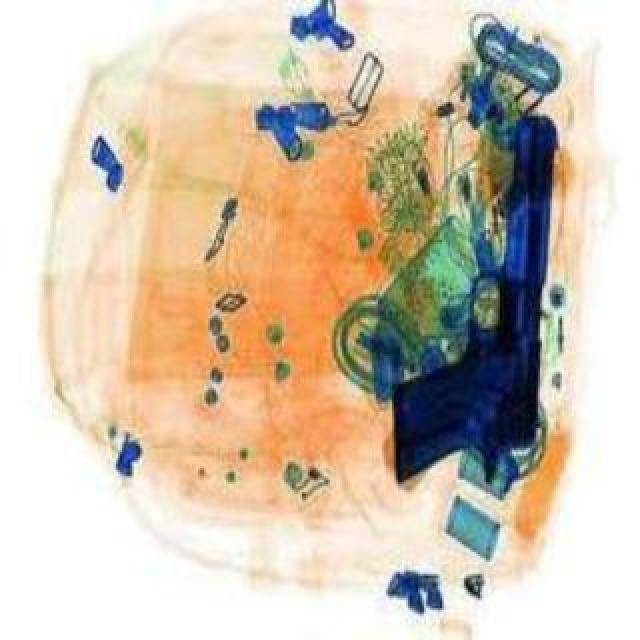gun: (384, 108, 556, 476)
